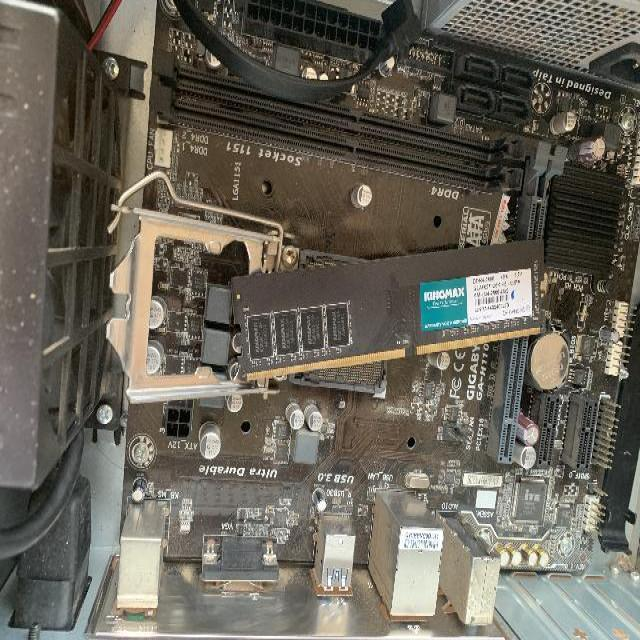Mainboard: (147, 2, 640, 637)
RAM: (232, 237, 544, 381)
